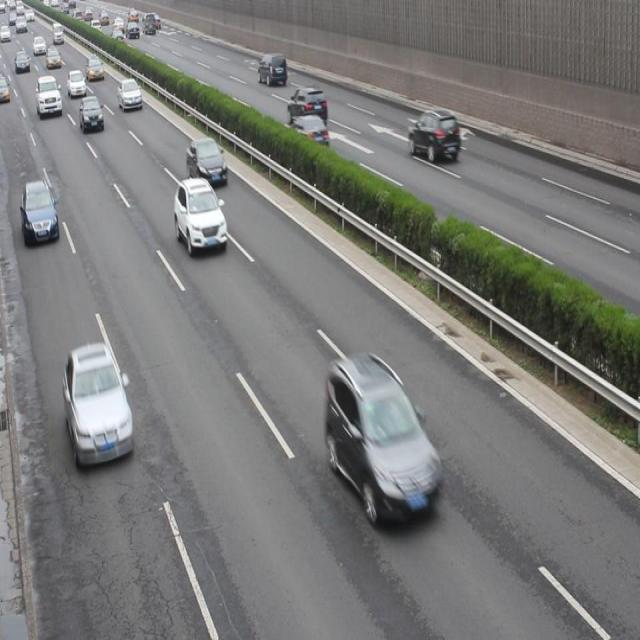car: (324, 352, 438, 526), (63, 343, 133, 472), (174, 176, 227, 254), (408, 106, 460, 164), (21, 179, 60, 246), (184, 137, 227, 188), (286, 114, 329, 157), (286, 85, 327, 124), (258, 52, 287, 87), (118, 78, 144, 115), (80, 95, 104, 134)
